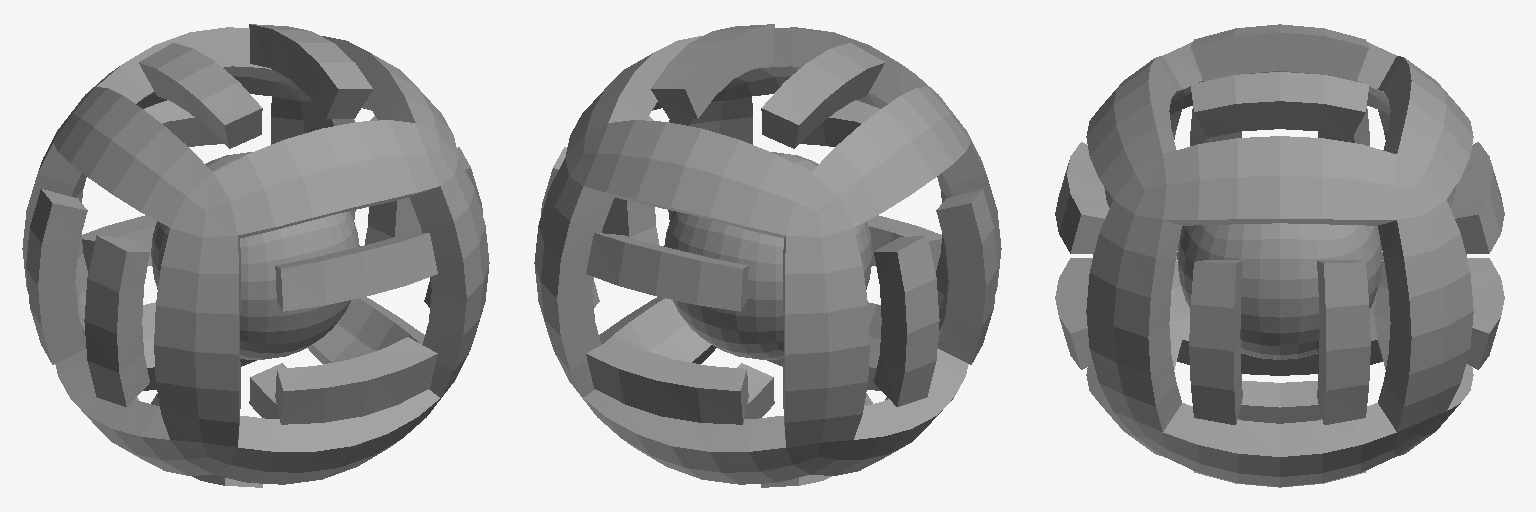
Rendered from sci_fi_ball.obj.
The picture shows the model from 3 angles: view 1: azimuth 30°, elevation 25°; view 2: azimuth 150°, elevation 25°; view 3: azimuth 270°, elevation 25°; orthographic projection.
Parts seen in each view (by area): view 1: sci_fi_ball; view 2: sci_fi_ball; view 3: sci_fi_ball.
Part boxes in pixels (left/top/right/bottom): sci_fi_ball: left=22, top=24, right=489, bottom=487; sci_fi_ball: left=534, top=24, right=1001, bottom=487; sci_fi_ball: left=1055, top=24, right=1504, bottom=487.
Size of the model in its own units: 2.26 by 2.26 by 2.26.